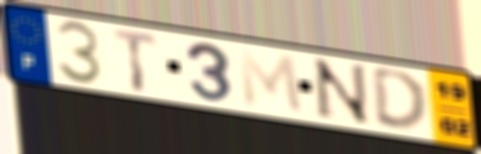3: (180, 41, 238, 106), (52, 18, 104, 87)
D: (368, 67, 432, 135)
M: (234, 46, 307, 117)
N: (310, 56, 376, 128)
T: (110, 26, 161, 95)
